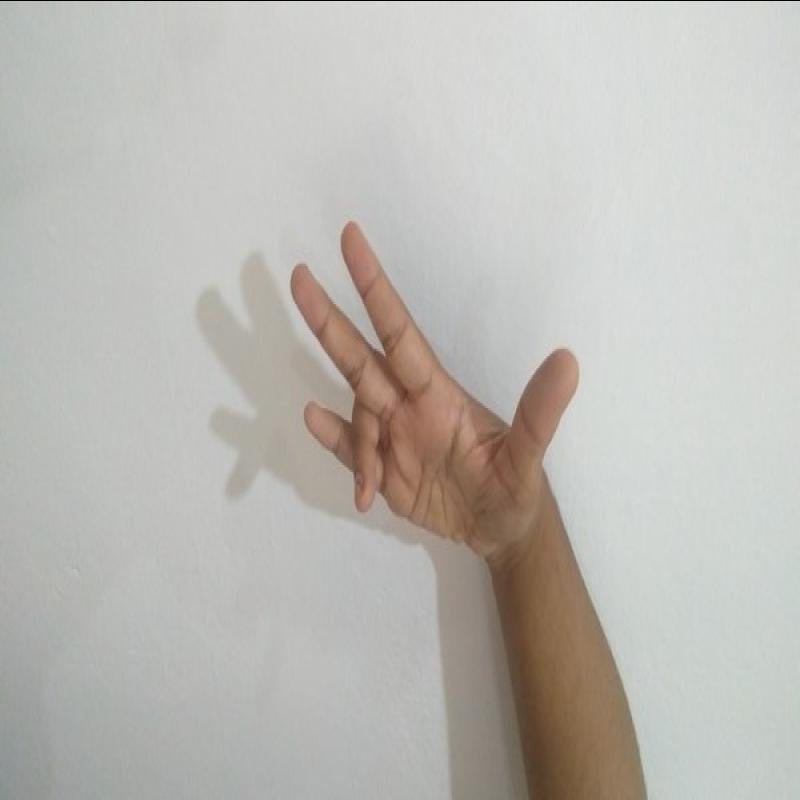Pathaaka: (274, 215, 591, 567)
